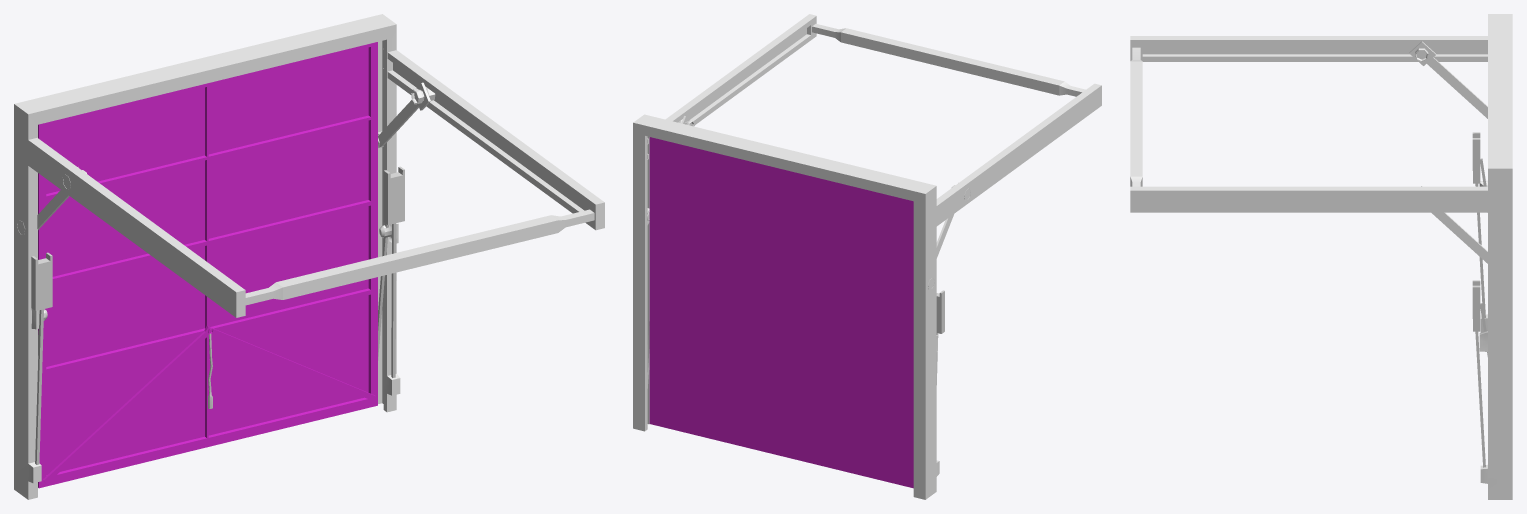
The model's file is SM_G_Door.fbx.
The picture shows the model from 3 angles, left to right: view 1: azimuth 30°, elevation 25°; view 2: azimuth 150°, elevation 25°; view 3: azimuth 270°, elevation 25°; orthographic projection. The views are drawn at different scales.
Parts seen in each view (by area): view 1: SM_Garage_Door, SM_Door_Frame1, SM_SpringLeft, SM_SpringRight, pCube5, pCube6, SM_Upper_Slide3; view 2: SM_Garage_Door, SM_Door_Frame1; view 3: SM_Door_Frame1, SM_Upper_Slide2, SM_SpringRight, SM_SpringLeft, SM_Upper_Slide3.
Boxes of the visible parts, <box> form: SM_Garage_Door: <box>38,42,377,488</box>; SM_Door_Frame1: <box>14,14,604,499</box>; SM_SpringLeft: <box>31,252,52,464</box>; SM_SpringRight: <box>383,166,404,377</box>; pCube5: <box>42,328,210,483</box>; pCube6: <box>204,326,375,400</box>; SM_Upper_Slide3: <box>378,82,435,147</box>; SM_Garage_Door: <box>649,137,913,488</box>; SM_Door_Frame1: <box>633,14,1101,499</box>; SM_Door_Frame1: <box>1130,14,1512,499</box>; SM_Upper_Slide2: <box>1409,41,1487,118</box>; SM_SpringRight: <box>1472,280,1485,467</box>; SM_SpringLeft: <box>1472,132,1485,317</box>; SM_Upper_Slide3: <box>1421,186,1487,263</box>.
Bounding box in the file's own units: 301 × 300 × 313.
